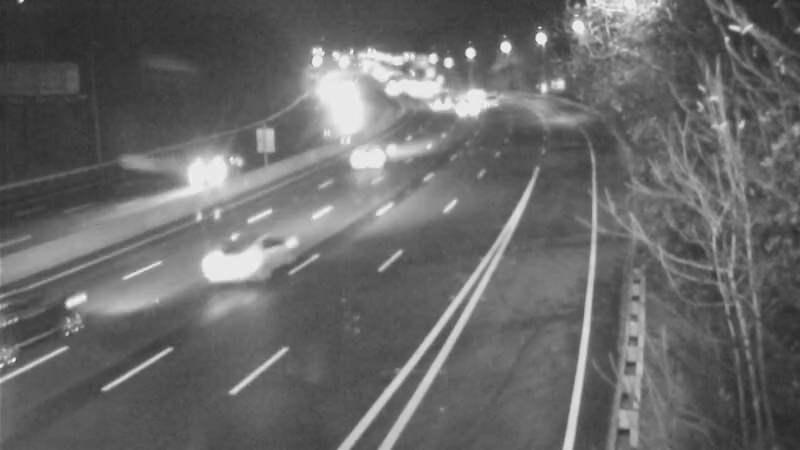vehicle: (1, 263, 100, 373), (325, 118, 405, 198), (196, 224, 276, 304), (162, 136, 242, 216), (413, 80, 463, 130), (444, 83, 494, 133), (320, 90, 370, 140)
